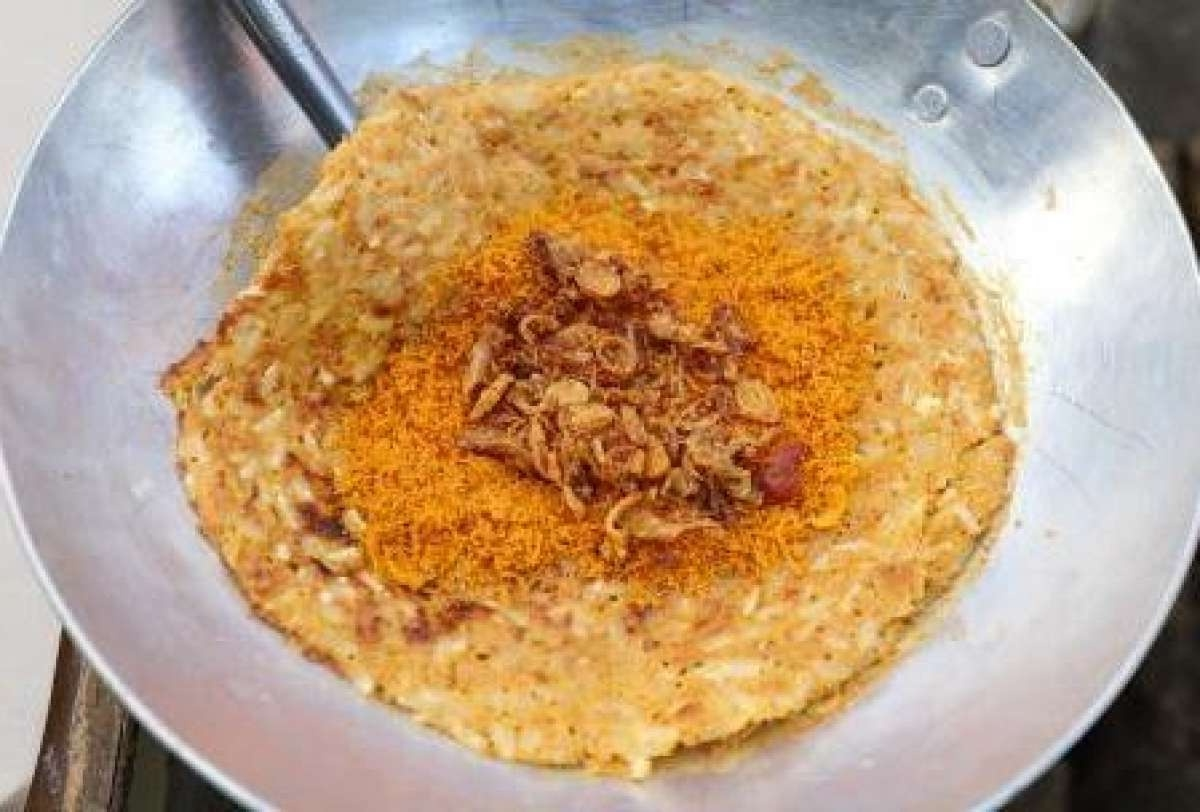kerak_telor: (177, 66, 1017, 783)
